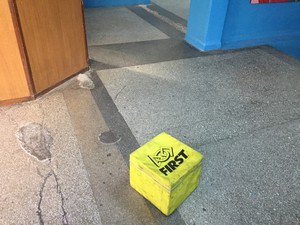cube: (129, 133, 204, 219)
